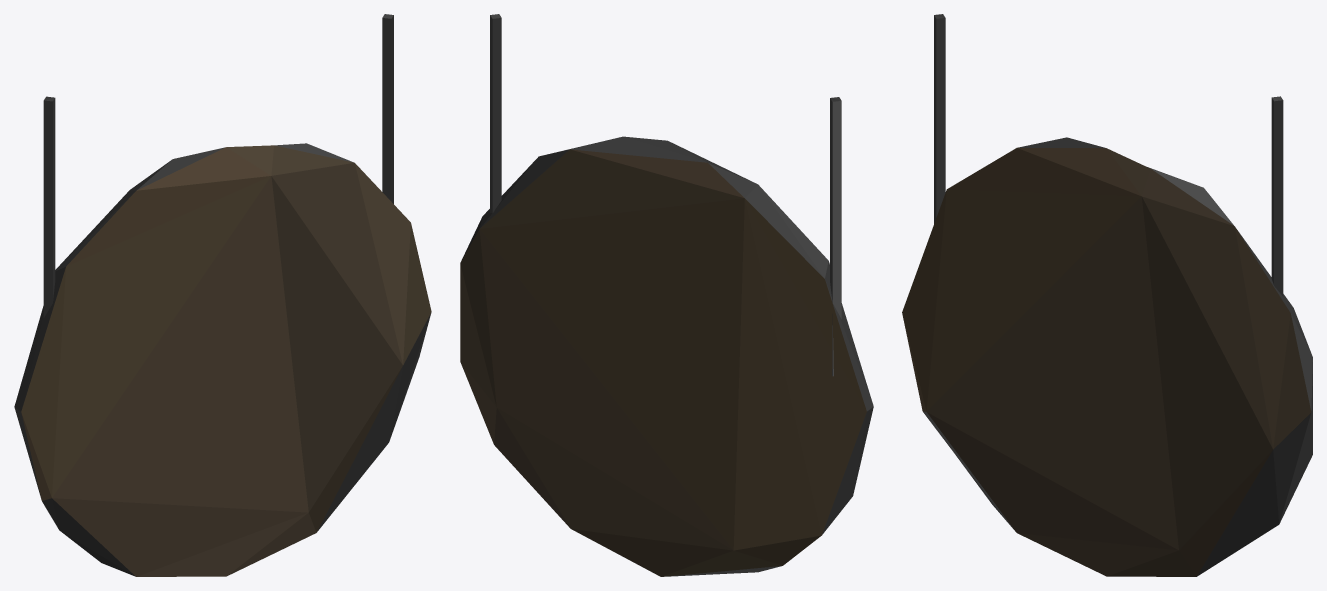
File: Sign-HangingB.fbx
The picture shows the model from 3 angles, left to right: view 1: azimuth 30°, elevation 25°; view 2: azimuth 150°, elevation 25°; view 3: azimuth 330°, elevation 25°; orthographic projection.
Visible parts, largest first — view 1: Sign-HangingB; view 2: Sign-HangingB; view 3: Sign-HangingB.
Part boxes in pixels (x1,y1,x2,y2): Sign-HangingB: [14, 14, 431, 576]; Sign-HangingB: [460, 14, 873, 576]; Sign-HangingB: [902, 14, 1312, 576].
Bounding box in the file's own units: 106 × 128 × 7.49.
